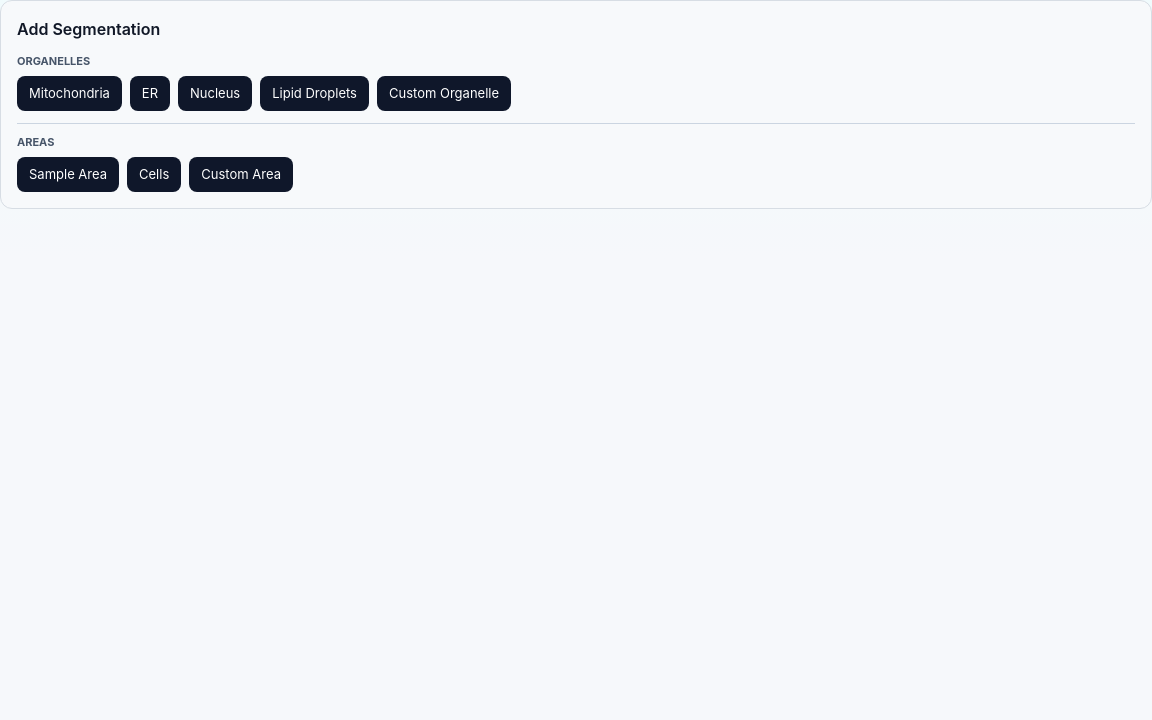
Scenario: SegmentationCreatePanel › uses overlapping instances as the Custom Area defaults and expands help
Click the button "Custom Area".
click(241, 174)  # box [189,156,293,192]
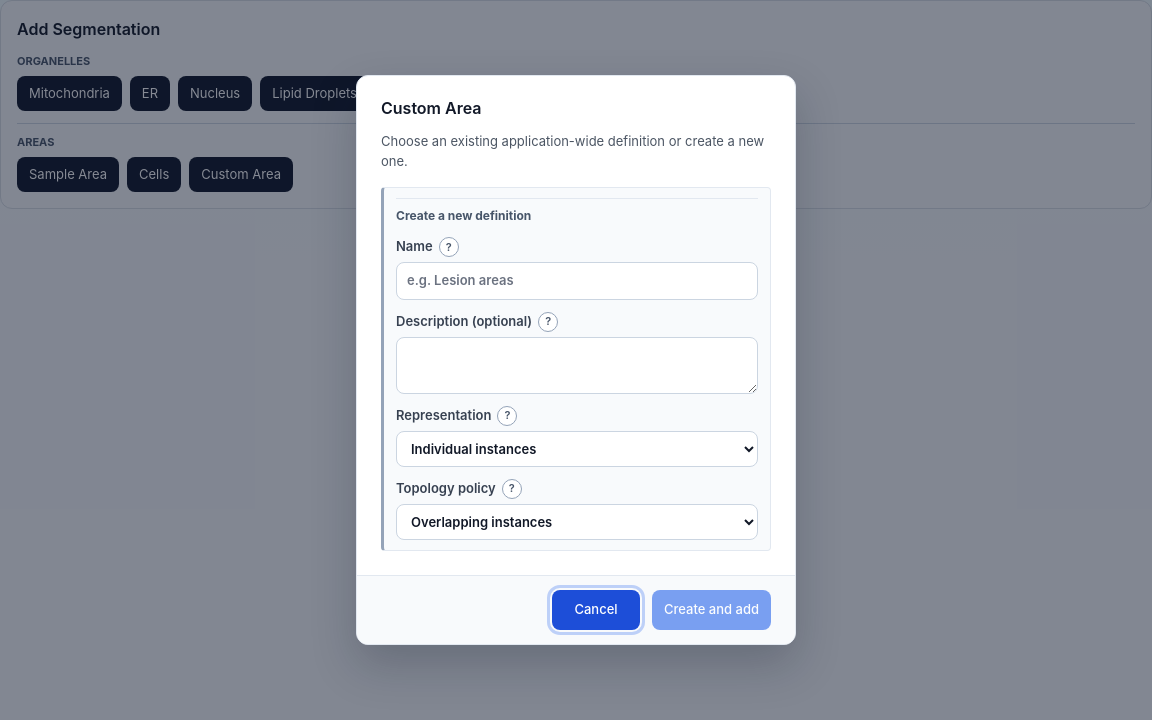
Check: the dropdown labelled "Representation ?" shows "Individual instances", box [396,431,758,467]
Check: the dropdown labelled "Topology policy ?" shows "Overlapping instances", box [396,504,758,540]
Click the button named "About representation".
click(507, 416)  # box [497,406,517,426]
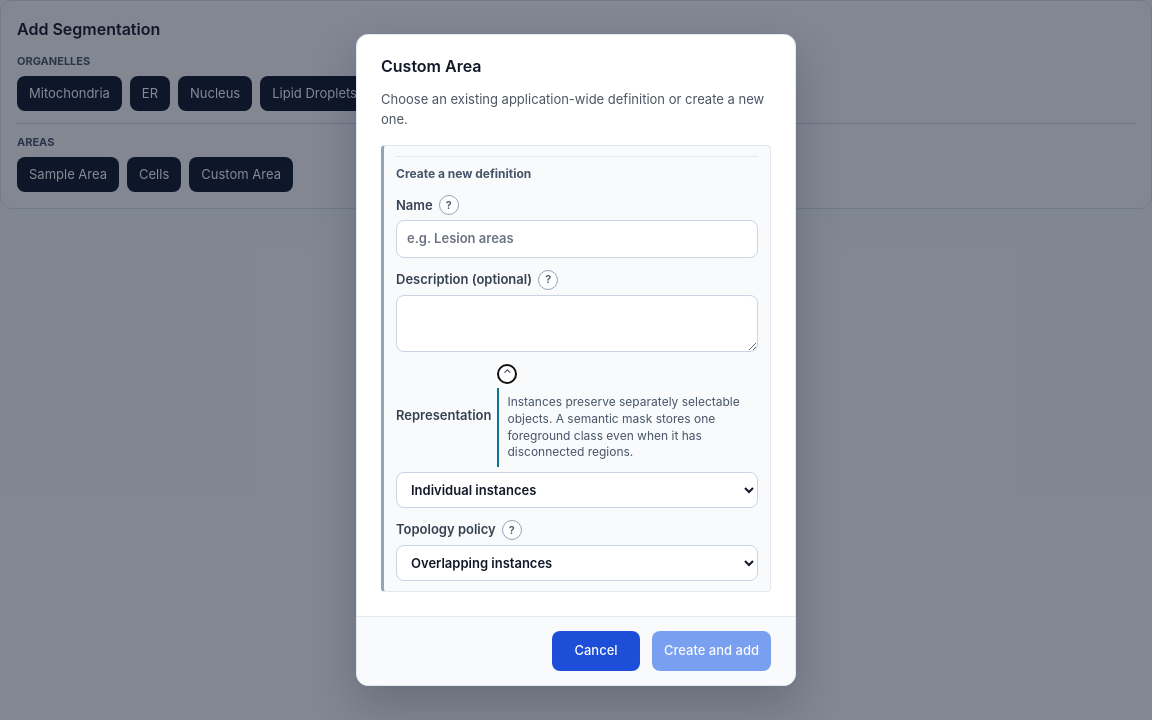
Check: the text "Instances preserve separately selectable objects" is shown, box [507,394,740,459]
Check: the button named "Hide representation" reads "⌃", box [497,364,517,384]
